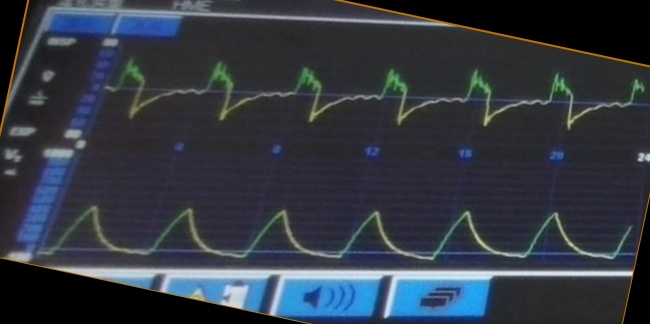Accumulation Flow: (121, 55, 597, 139)
Volume: (70, 181, 627, 265)
